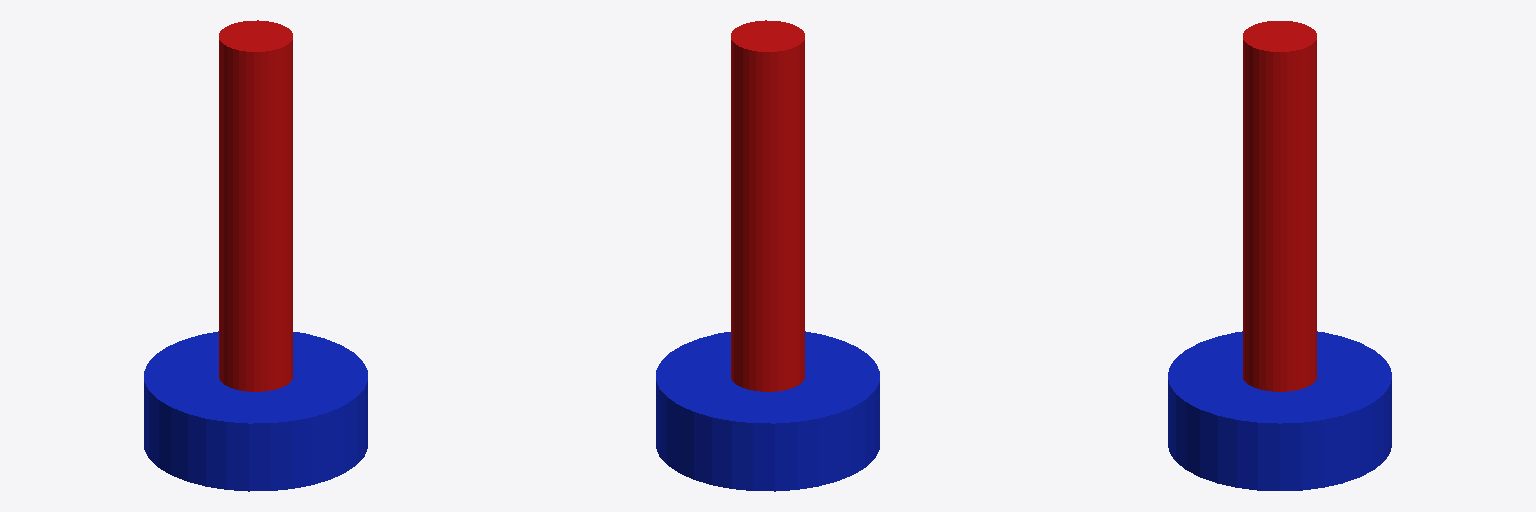
URDF robot description (mct342_robot):
<?xml version="1.0"?>
<robot name="mct342_robot">

  <link name="base_link">
    <visual>
      <geometry>
        <cylinder radius="0.15" length="0.10"/>
      </geometry>
      <material name="blue">
        <color rgba="0.1 0.2 0.8 1.0"/>
      </material>
    </visual>
  </link>

  <link name="arm_link">
    <visual>
      <origin xyz="0 0 0.25" rpy="0 0 0"/>
      <geometry>
        <cylinder radius="0.05" length="0.50"/>
      </geometry>
      <material name="red">
        <color rgba="0.8 0.1 0.1 1.0"/>
      </material>
    </visual>
  </link>

  <joint name="base_to_arm" type="revolute">
    <parent link="base_link"/>
    <child link="arm_link"/>
    <origin xyz="0 0 0.05" rpy="0 0 0"/>
    <axis xyz="0 0 1"/>
    <limit lower="-3.14" upper="3.14" effort="10" velocity="1"/>
 

  </joint>

</robot>

--- Render facts (derived) ---
3 views of the same robot in one strip: view 1: azimuth 30°, elevation 25°; view 2: azimuth 150°, elevation 25°; view 3: azimuth 270°, elevation 25° (orthographic).
Model mct342_robot with 2 links and 1 joints (1 revolute), rooted at base_link, posed every joint at zero.
Links seen in each view (by area): view 1: base_link, arm_link; view 2: base_link, arm_link; view 3: base_link, arm_link.
Link boxes in pixels (x1=…): base_link: x1=144, y1=331, x2=367, y2=491; arm_link: x1=219, y1=20, x2=292, y2=391; base_link: x1=656, y1=331, x2=879, y2=491; arm_link: x1=731, y1=20, x2=804, y2=391; base_link: x1=1168, y1=331, x2=1391, y2=490; arm_link: x1=1243, y1=21, x2=1316, y2=391.
Bounding box of the posed robot: 0.3 × 0.3 × 0.6 m (x, y, z).
Geometry: primitives only (box / cylinder / sphere), no mesh files.
